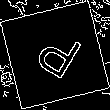P_SW: (26, 24, 84, 86)
